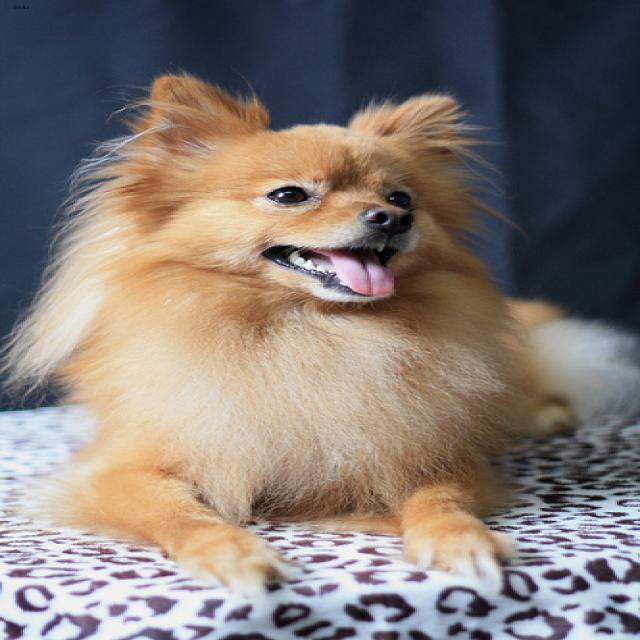dog-pomeranian: (2, 65, 636, 602)
